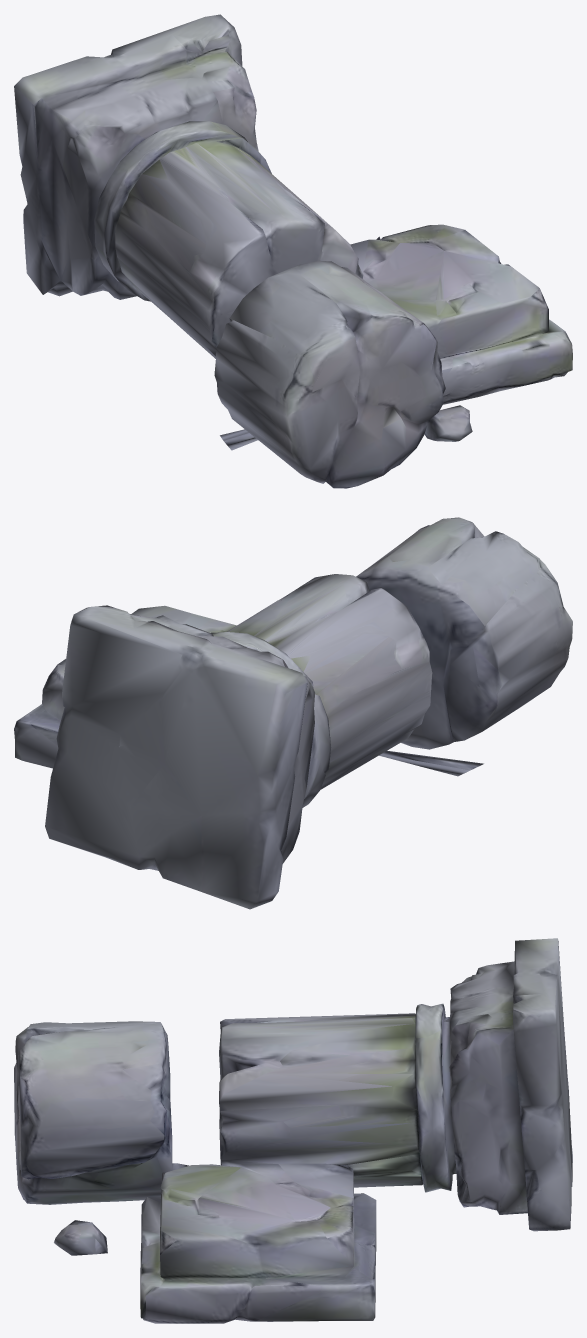
File: fallen_column.glb
The picture shows the model from 3 angles, top to bottom: view 1: azimuth 30°, elevation 25°; view 2: azimuth 150°, elevation 25°; view 3: azimuth 270°, elevation 25°; orthographic projection. The views are drawn at different scales.
Visible parts, largest first — view 1: fallen_column; view 2: fallen_column; view 3: fallen_column.
Part boxes in pixels (x1,y1,x2,y2): fallen_column: [14, 14, 572, 488]; fallen_column: [14, 517, 572, 909]; fallen_column: [14, 938, 572, 1323].
Size of the model in its own units: 3.31 by 2.19 by 4.6.
1 material, 1 textured.
